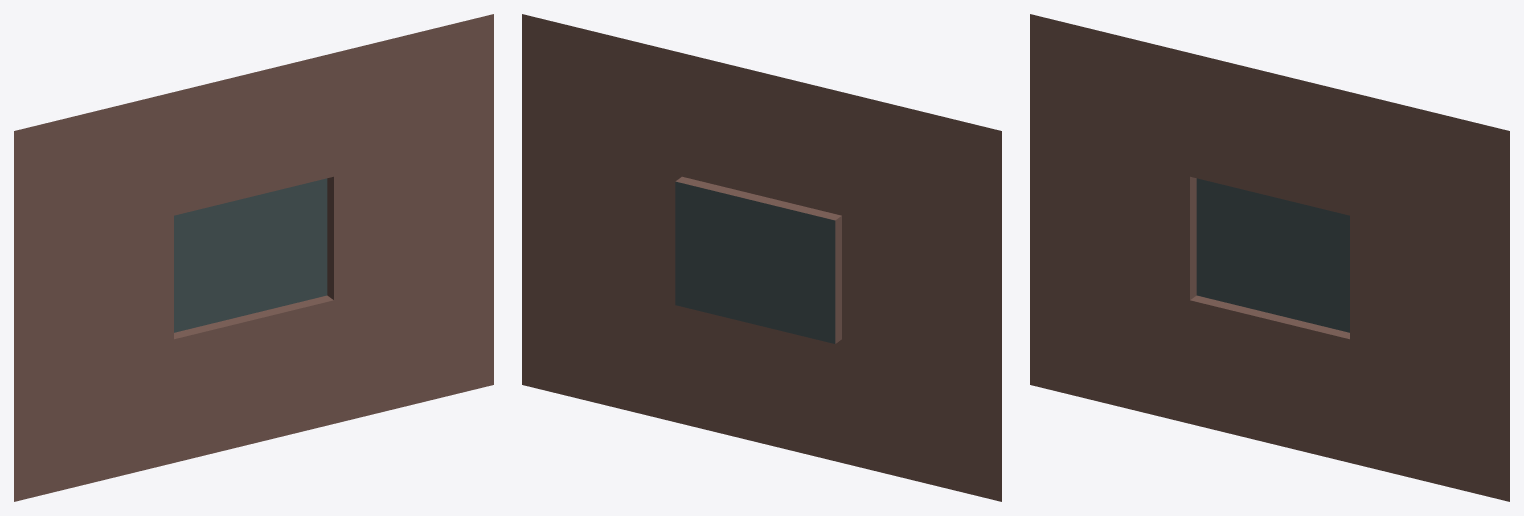
The model's file is mid-w3.fbx.
3 renders of one model, left to right at view 1: azimuth 30°, elevation 25°; view 2: azimuth 150°, elevation 25°; view 3: azimuth 330°, elevation 25°, orthographic.
Parts seen in each view (by area): view 1: a2009.wall.002; view 2: a2009.wall.002; view 3: a2009.wall.002.
Part boxes in pixels (box(x1,y1,x2,y2)): a2009.wall.002: box(14, 14, 493, 501); a2009.wall.002: box(522, 14, 1001, 501); a2009.wall.002: box(1030, 14, 1509, 501).
Bounding box in the file's own units: 5 × 3.69 × 0.1195.
